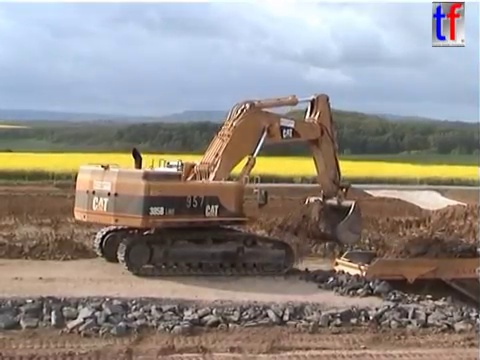excavator: (70, 91, 364, 278)
truck: (331, 247, 480, 335)
